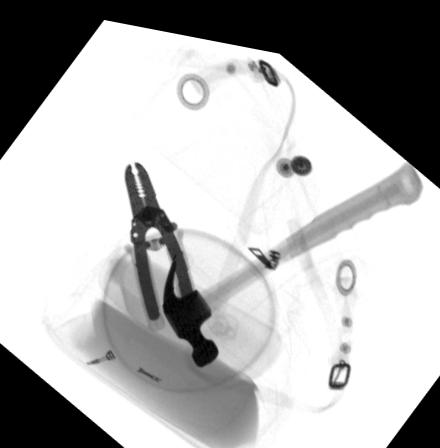Hammer: (160, 145, 423, 359)
Pliers: (120, 155, 200, 325)
